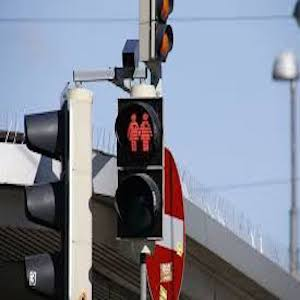red: (122, 110, 155, 149)
